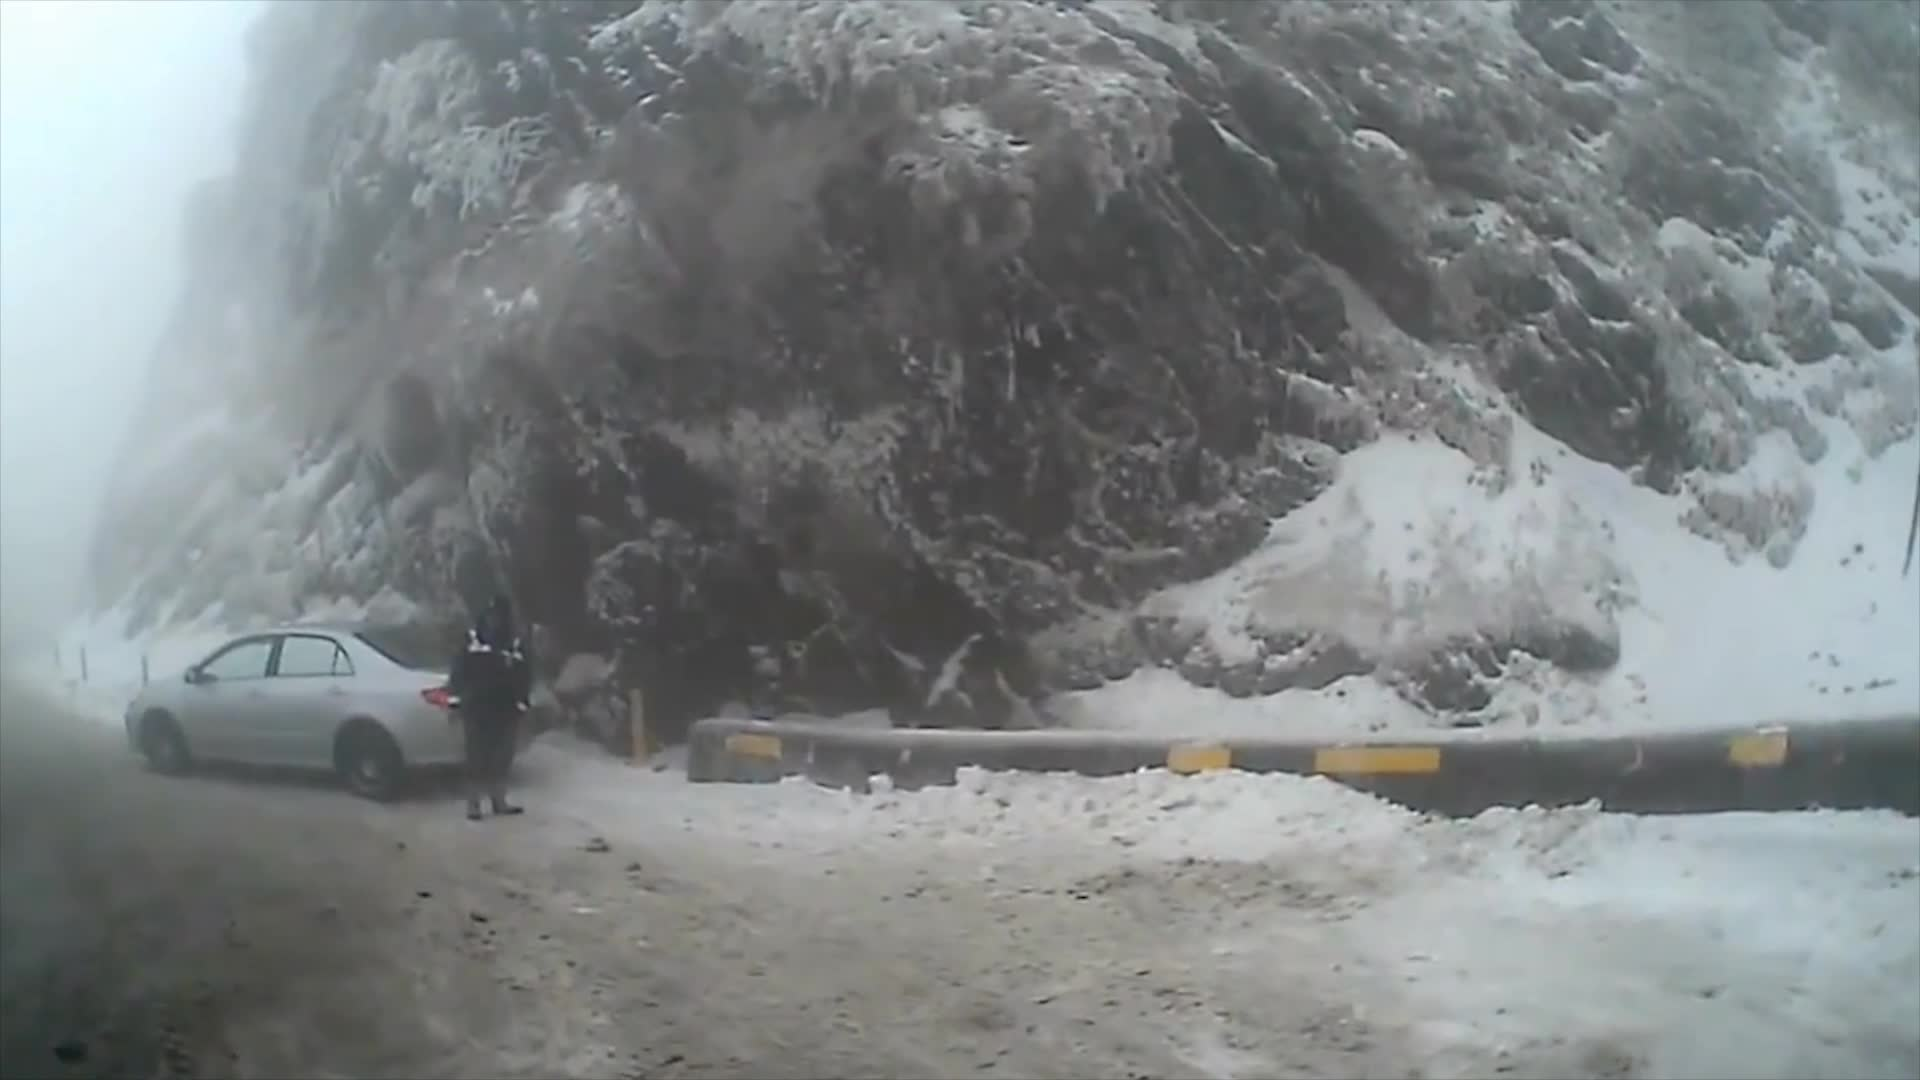pedestrian: (447, 591, 532, 820)
vehicle: (123, 619, 534, 805)
